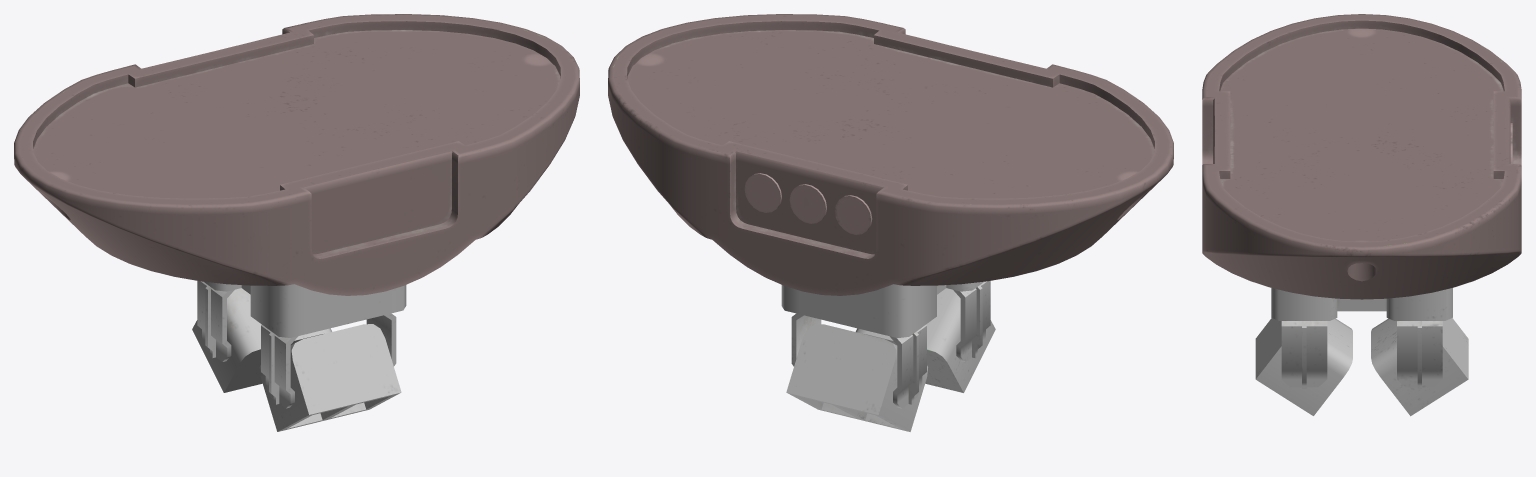
3 views of the same model, side by side, from view 1: azimuth 30°, elevation 25°; view 2: azimuth 150°, elevation 25°; view 3: azimuth 270°, elevation 25° (orthographic). The views are drawn at different scales.
Parts seen in each view (by area): view 1: AM218_012_Parking Sensor; view 2: AM218_012_Parking Sensor; view 3: AM218_012_Parking Sensor.
Part boxes in pixels (x1,y1,x2,y2): AM218_012_Parking Sensor: [14, 14, 579, 431]; AM218_012_Parking Sensor: [608, 14, 1173, 431]; AM218_012_Parking Sensor: [1202, 14, 1521, 416].
Bounding box in the file's own units: 22.67 × 12.95 × 12.98.
1 material, 1 textured.
